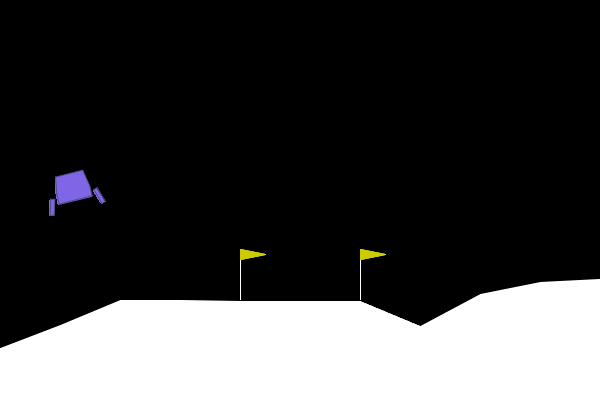lander: (39, 165, 107, 218)
